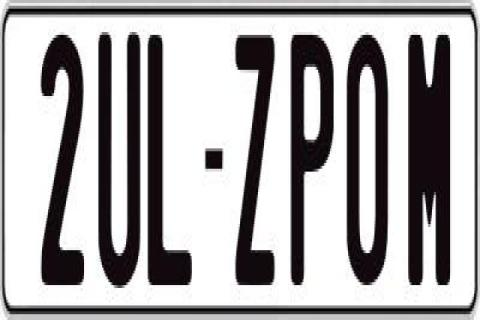0: (344, 32, 390, 300), (40, 35, 88, 288)
L: (148, 26, 198, 288)
M: (408, 35, 452, 288)
P: (288, 35, 332, 294)
U: (99, 29, 143, 291)
Z: (236, 27, 276, 280)
